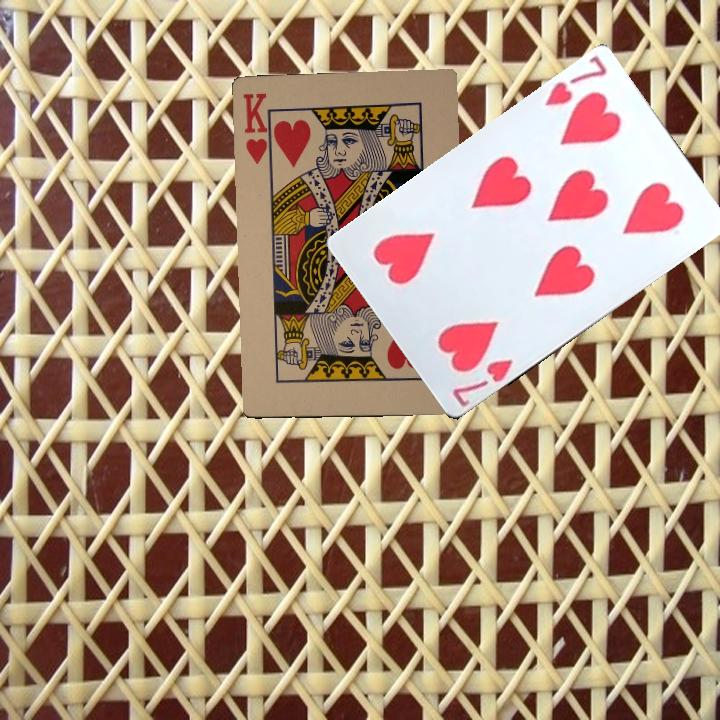7h: (540, 51, 609, 109), (448, 354, 516, 410)
Kh: (238, 88, 275, 167)
